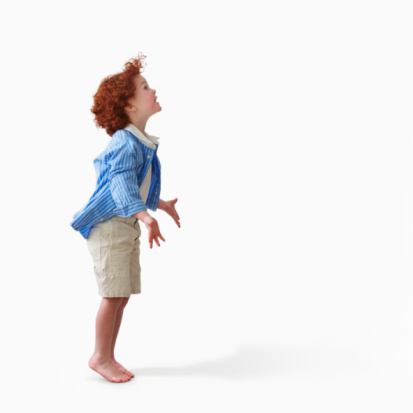em pe: (70, 43, 173, 390)
